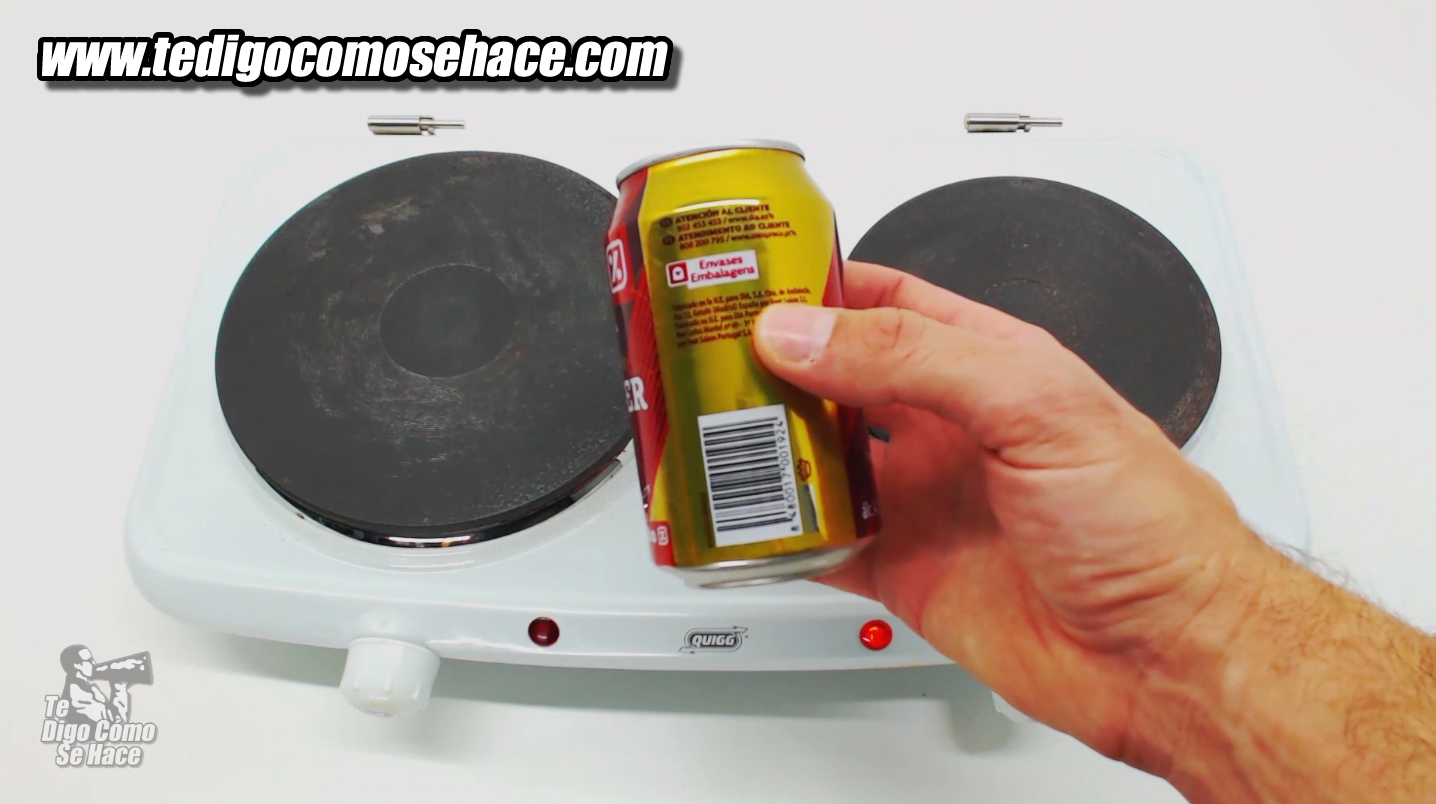can: (589, 98, 895, 598)
